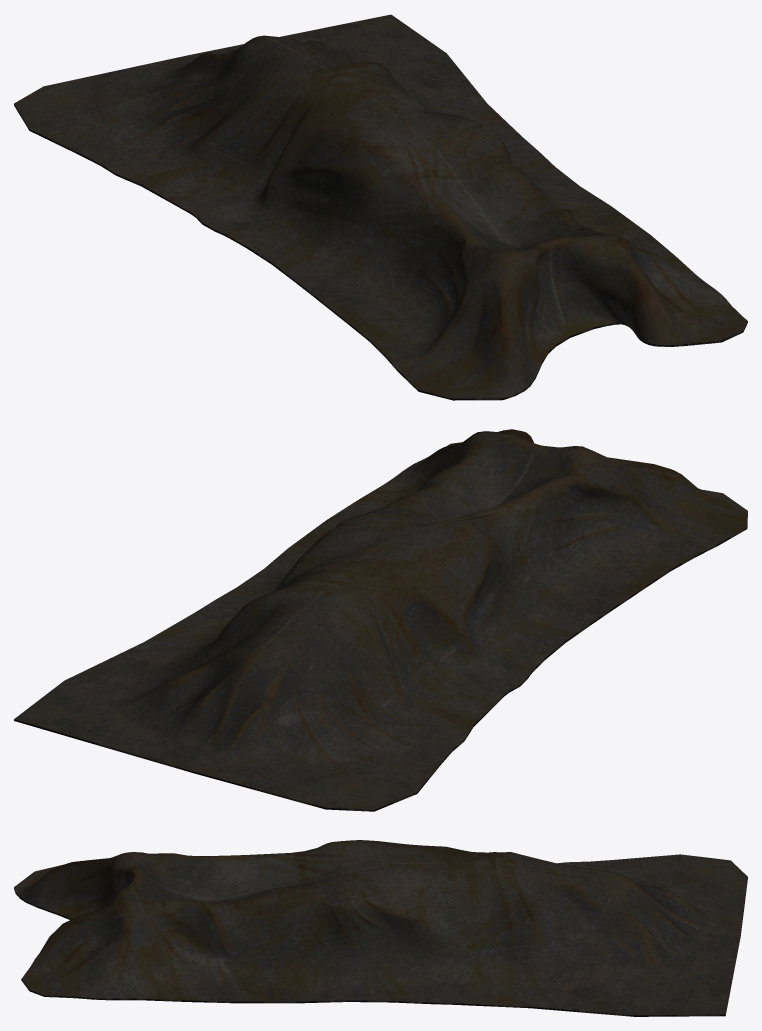
The model's file is SM_Body_Bag02.glb.
The picture shows the model from 3 angles, top to bottom: view 1: azimuth 30°, elevation 25°; view 2: azimuth 150°, elevation 25°; view 3: azimuth 270°, elevation 25°; orthographic projection. The views are drawn at different scales.
Visible parts, largest first — view 1: SM_Body_Bag02; view 2: SM_Body_Bag02; view 3: SM_Body_Bag02.
Part boxes in pixels (box(x1,y1,x2,y2)): SM_Body_Bag02: box(14, 14, 747, 400); SM_Body_Bag02: box(14, 429, 747, 811); SM_Body_Bag02: box(14, 840, 747, 1016).
Size of the model in its own units: 1.36 by 0.304 by 2.63.
1 material, 1 textured.
